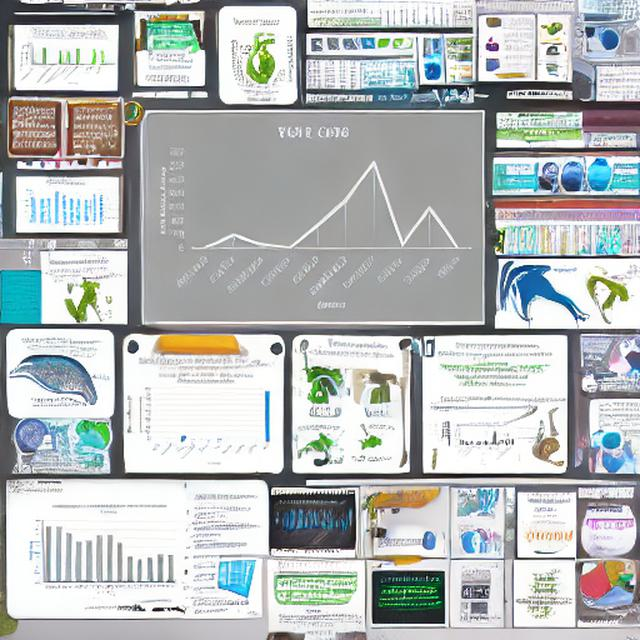Graph: (145, 116, 483, 321), (24, 502, 178, 598), (135, 370, 275, 466), (19, 27, 117, 88), (271, 497, 356, 548), (21, 182, 106, 229), (451, 422, 516, 464), (520, 519, 575, 552)
